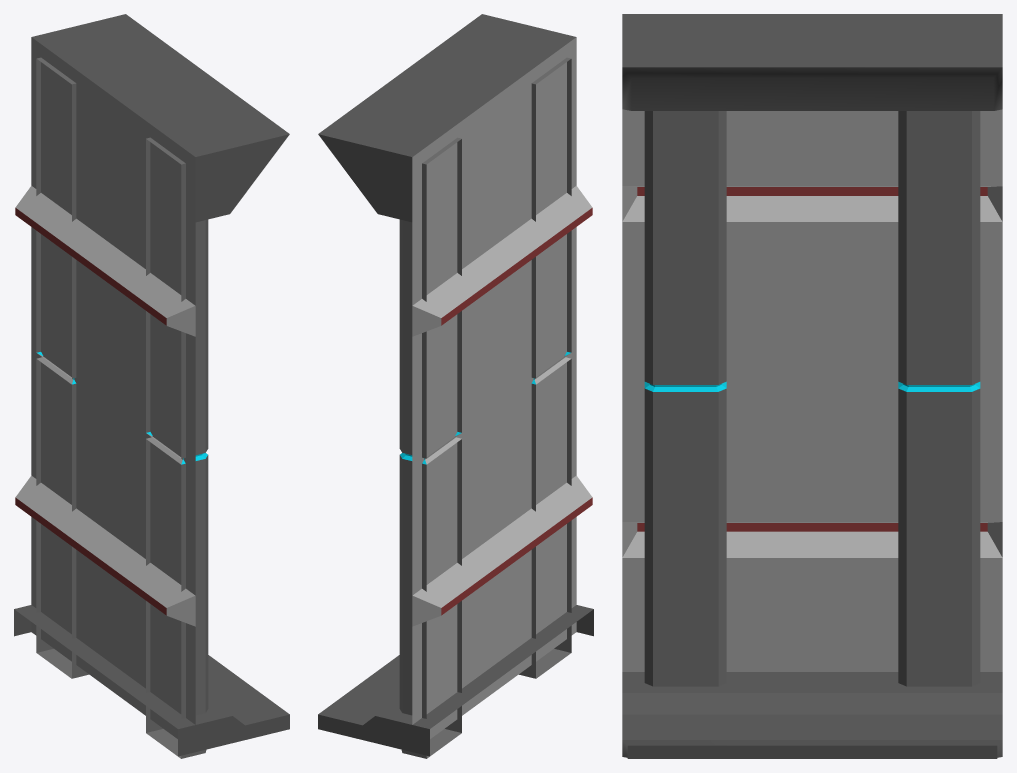
File: SM_Module_14.fbx
3 renders of one model, left to right at view 1: azimuth 30°, elevation 25°; view 2: azimuth 150°, elevation 25°; view 3: azimuth 270°, elevation 25°, orthographic. The views are drawn at different scales.
Parts seen in each view (by area): view 1: SM_Module_08; view 2: SM_Module_08; view 3: SM_Module_08.
Boxes of the visible parts, x1,y1,x2,y2 form: SM_Module_08: (14,14,289,758); SM_Module_08: (318,14,593,758); SM_Module_08: (622,14,1002,758).
Size of the model in its own units: 125 by 613 by 300.
